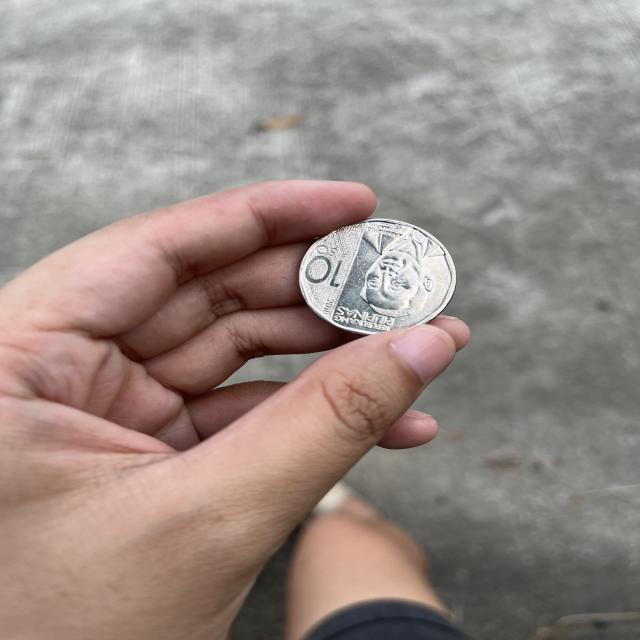10_New_Front: (306, 241, 351, 291)
